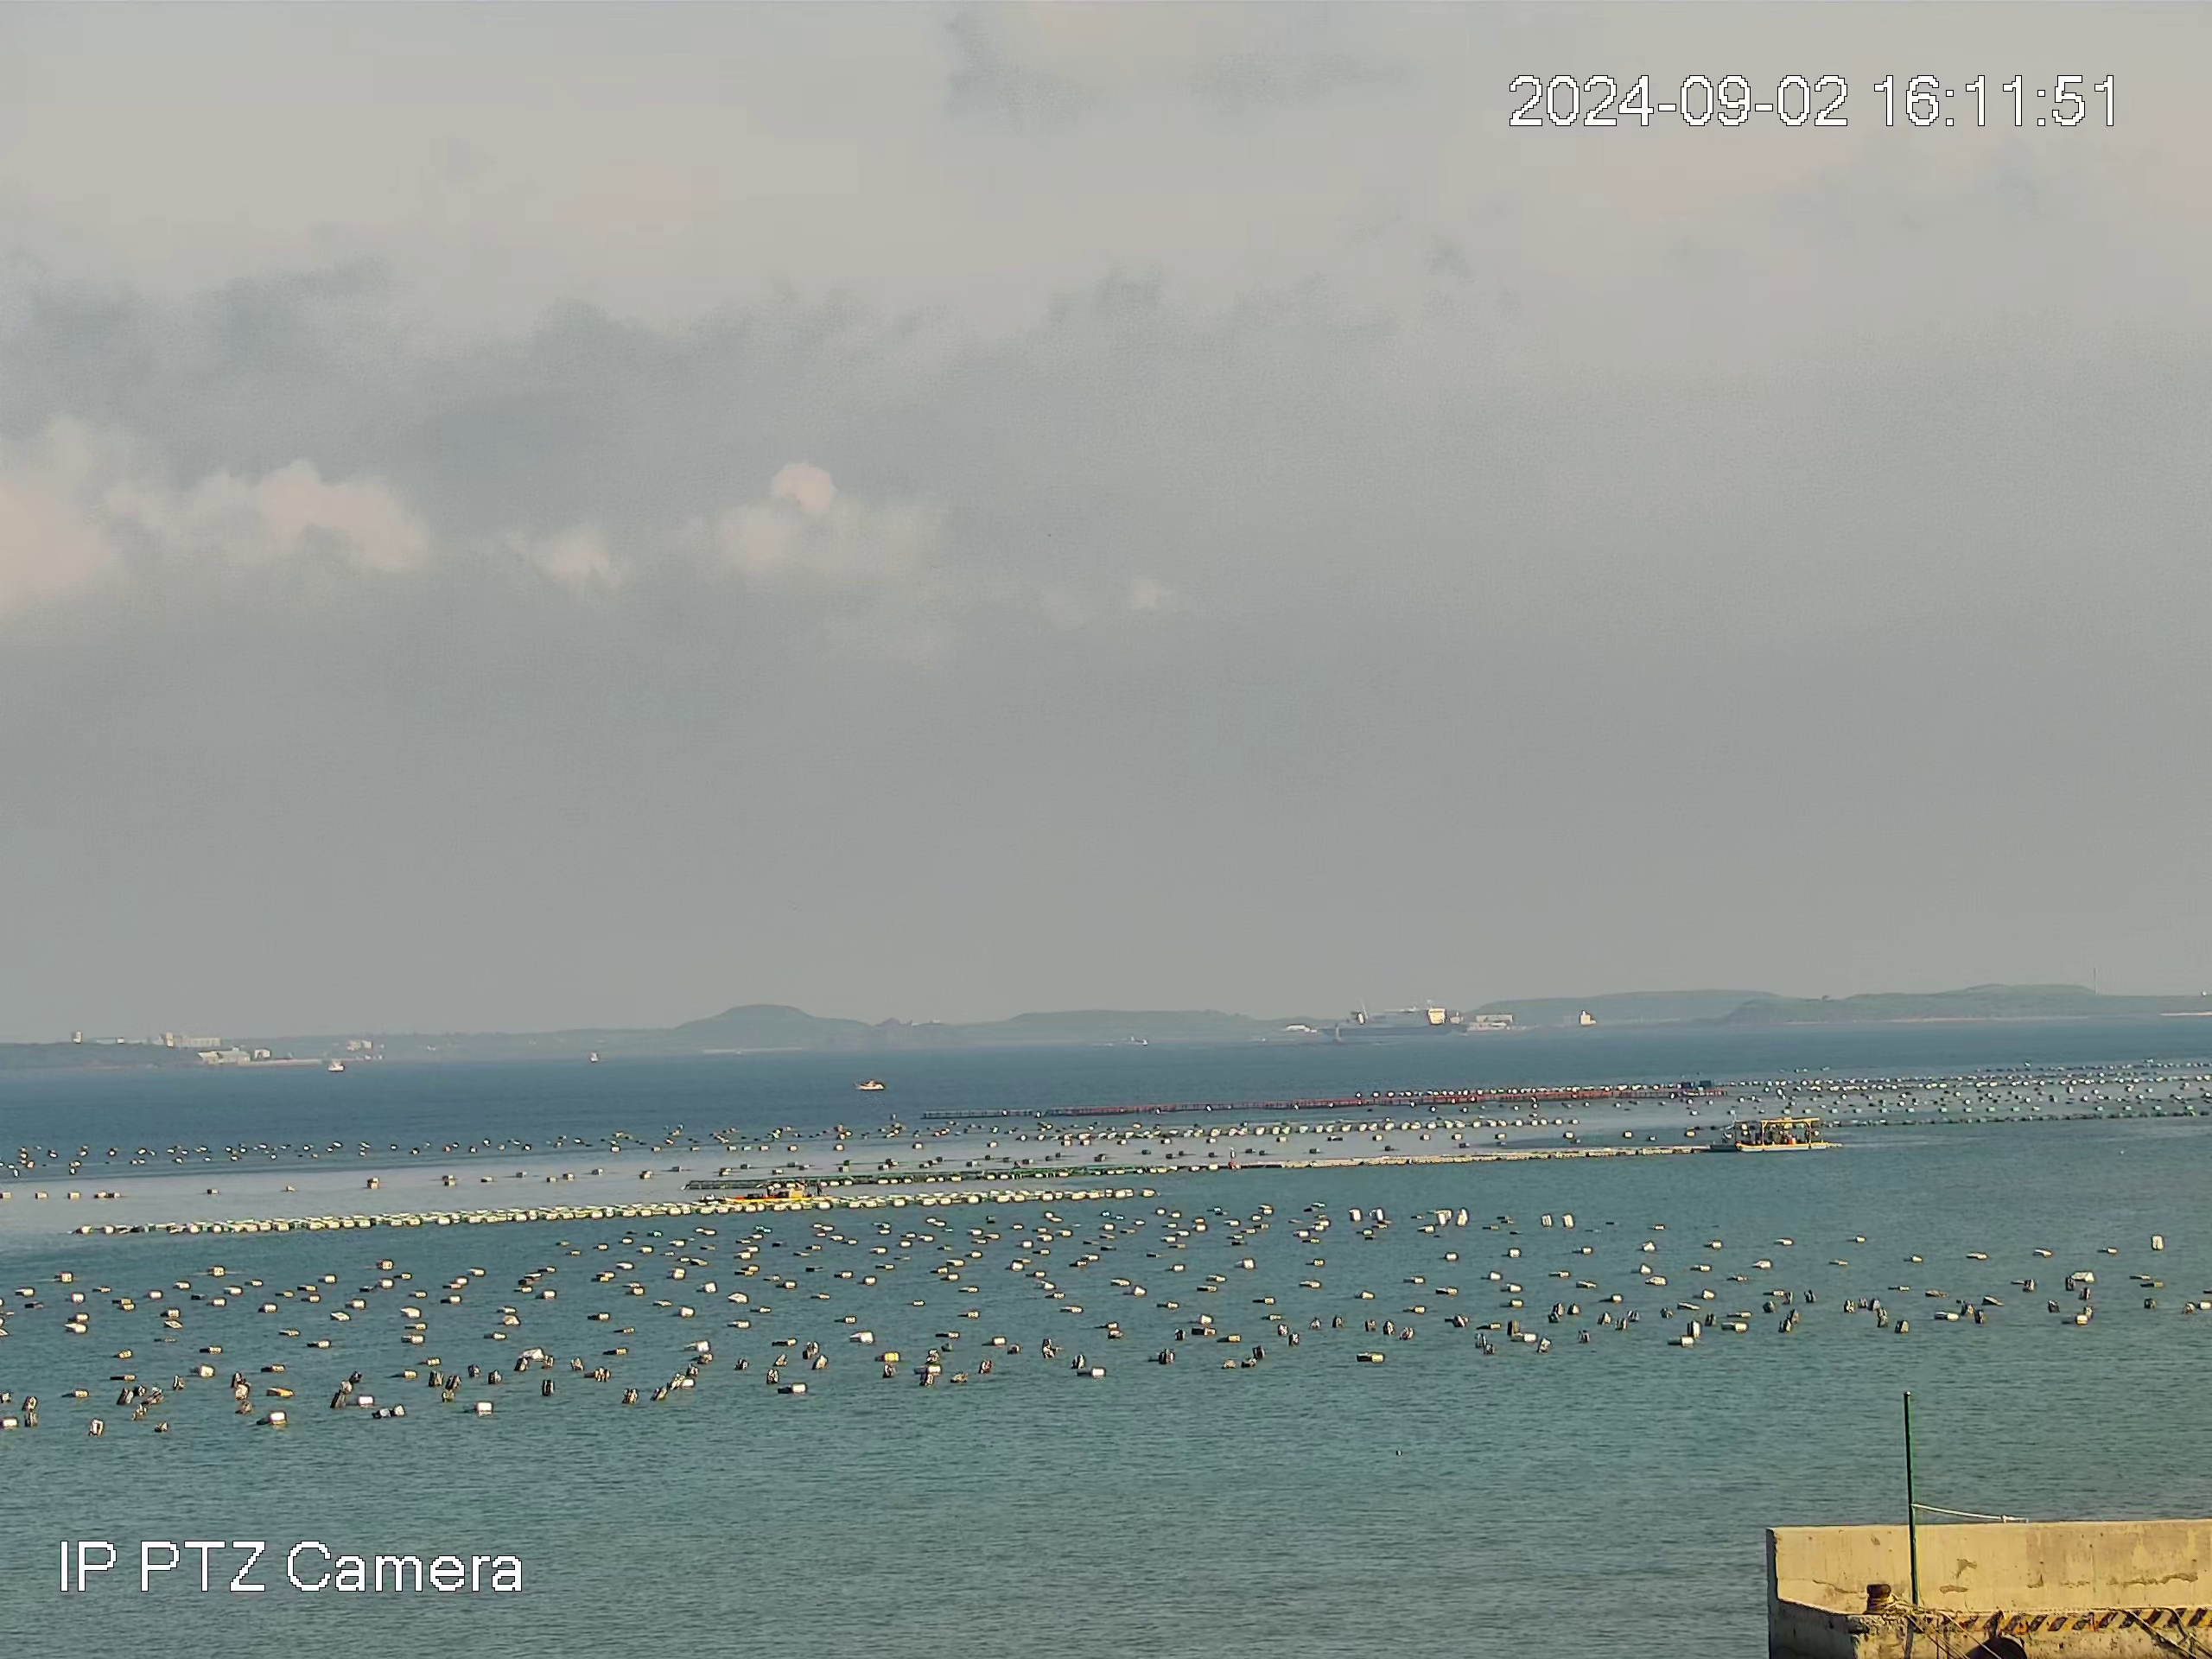boat: (1318, 1006, 1471, 1037), (1733, 1116, 1830, 1153), (721, 1180, 815, 1204), (853, 1079, 885, 1092)
